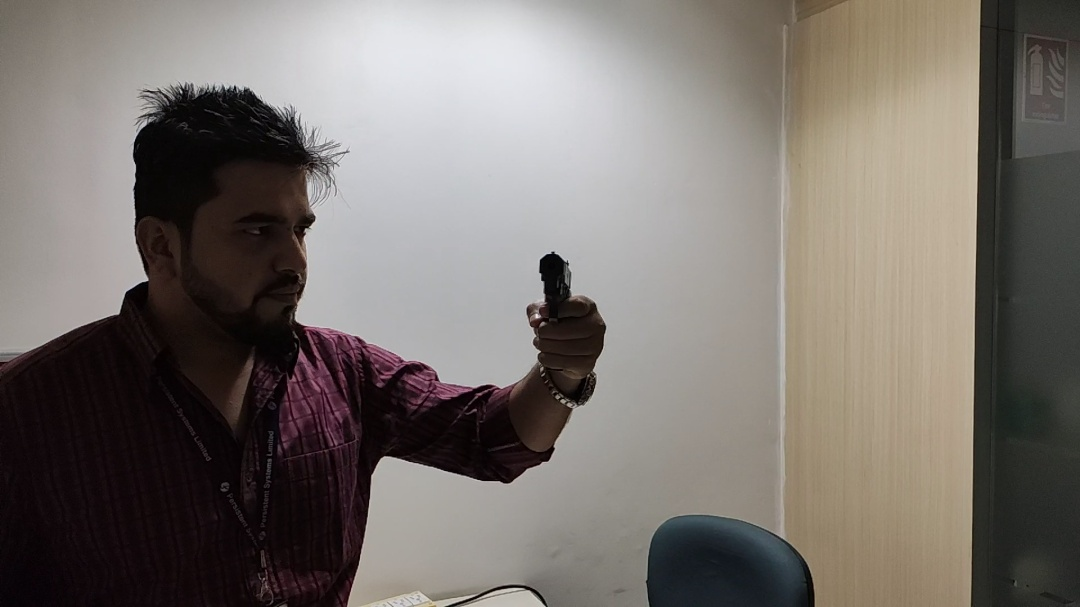gun: (182, 36, 700, 558)
